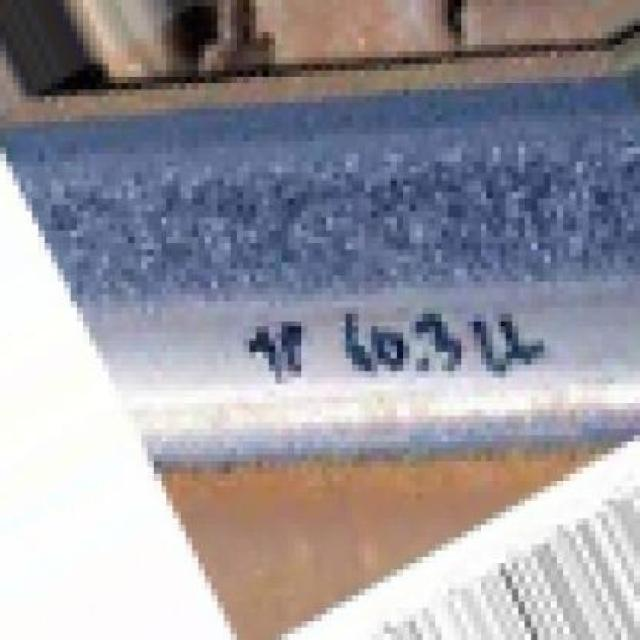defective: (1, 63, 640, 478)
